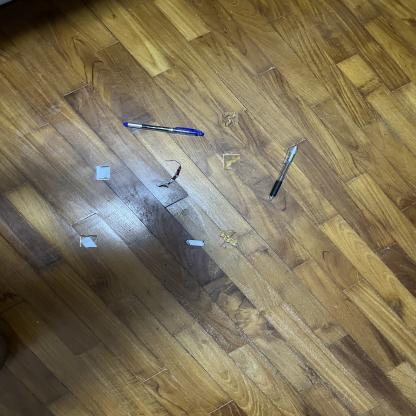dirty: (220, 232, 236, 248), (224, 153, 239, 170), (96, 166, 110, 180), (80, 236, 97, 247), (224, 112, 236, 126)
